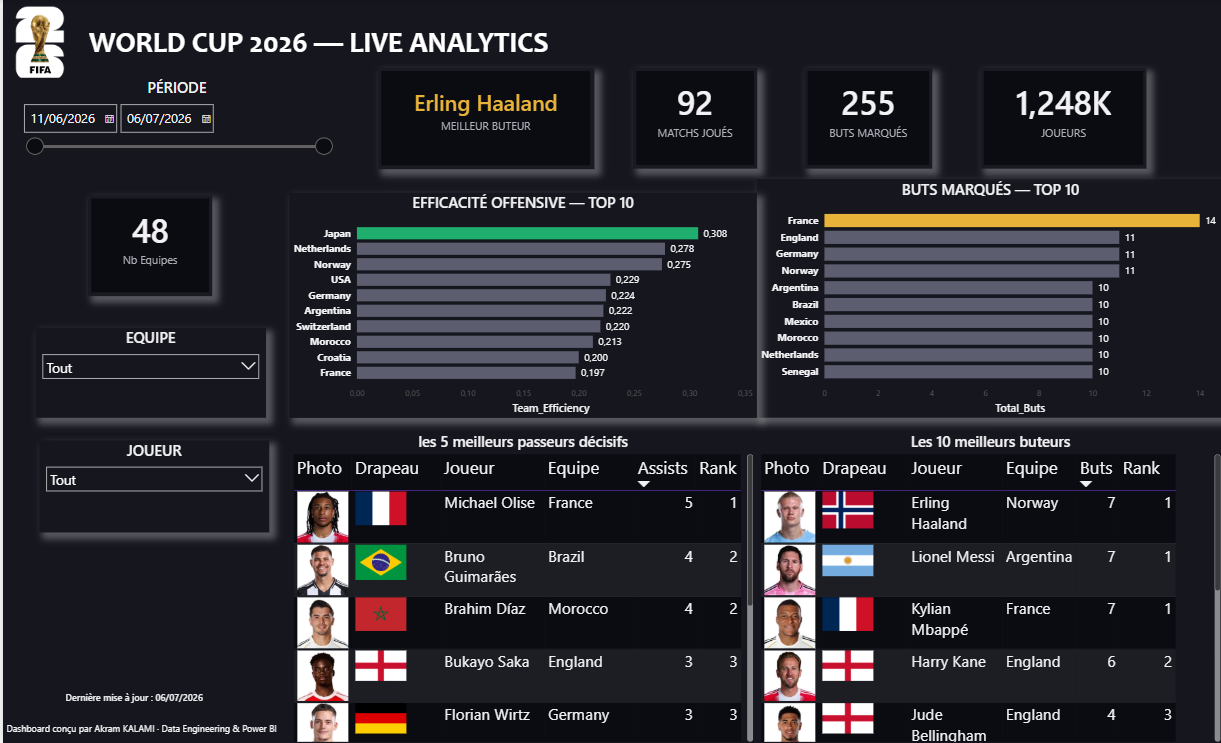

What the dashboard file says about the page in this screenshot:
{"tool":"powerbi","page":{"name":"Page 1","canvas":[1800,1100],"ordinal":0},"visuals":[{"type":"image","box":[0,0,108.6,131.4],"z":0},{"type":"textbox","box":[121.4,32.9,805.7,68.6],"z":1000},{"type":"cardVisual","title":"Total Gaols","fields":{"Data":["Fact_Performances.Total_Buts"]},"box":[1181,102.3,189.1,148.6],"z":2000},{"type":"cardVisual","title":"Total Gaols","fields":{"Data":["Fact_Performances.Nb_Matchs"]},"box":[928.2,102.3,183.3,148.6],"z":3000},{"type":"cardVisual","title":"Total Gaols","fields":{"Data":["Fact_Performances.Top_Buteur"]},"box":[571.2,102.3,301,148.6],"z":4000},{"type":"clusteredBarChart","title":"BUTS MARQUÉS — TOP 10","fields":{"Category":["Dim_Equipes.Nom_Equipe"],"Y":["Fact_Performances.Total_Buts"]},"box":[1194.5,266.3,605.9,418.7],"z":5000},{"type":"slicer","title":"EQUIPE","fields":{"Values":["Dim_Joueurs.Equipe_Nom"]},"box":[48.2,484.3,339.6,133.1],"z":6000},{"type":"slicer","title":"JOUEUR ","fields":{"Values":["Dim_Joueurs.Nom"]},"box":[48.2,727.5,339.6,137],"z":7000},{"type":"slicer","title":"PÉRIODE","fields":{"Values":["Dim_Calendrier.Date"]},"box":[19.3,131.2,474.7,135.1],"z":8000},{"type":"clusteredBarChart","title":"EFFICACITÉ OFFENSIVE — TOP 10","fields":{"Category":["Dim_Equipes.Nom_Equipe"],"Y":["Fact_Performances.Team_Efficiency"]},"box":[565.4,266.3,615,418.7],"z":9000},{"type":"cardVisual","fields":{"Data":["Dim_Calendrier.Derniere_MAJ"]},"box":[0,989.9,387.9,71.4],"z":10000},{"type":"textbox","box":[0,1061.3,681.2,38.6],"z":11000},{"type":"cardVisual","title":"Total Gaols","fields":{"Data":["Fact_Performances.Nb_Joueurs"]},"box":[1441.5,102.3,245.1,148.6],"z":12000},{"type":"cardVisual","title":"Total Gaols","fields":{"Data":["Fact_Performances.Nb_Equipes"]},"box":[125.4,289.5,183.3,148.6],"z":13000},{"type":"tableEx","title":"Les 10 meilleurs buteurs","fields":{"Values":["Dim_Joueurs.URL_Photo","Dim_Joueurs.Drapeau_URL","Dim_Joueurs.Nom","Dim_Joueurs.Equipe_Nom","Fact_Performances.Total_Buts","Fact_Performances.Rank_Buteur_Final"]},"box":[1111.5,704.3,688.9,395.6],"z":14000},{"type":"tableEx","title":"les 5 meilleurs passeurs décisifs","fields":{"Values":["Dim_Joueurs.URL_Photo","Dim_Joueurs.Drapeau_URL","Dim_Joueurs.Nom","Dim_Joueurs.Equipe_Nom","Fact_Performances.Total_Passes_Decisives","Fact_Performances.Rank_Passeur"]},"box":[422.6,704.3,688.9,395.6],"z":15000}]}

Visuals, with their boxes in screenshot pixels (x1, y1, x2, y2), scaled from the page's 1800x1100 canvas onto the 1221x743 screenshot:
image: box=[0, 0, 74, 89]
textbox: box=[82, 22, 629, 69]
"Total Gaols" cardVisual: box=[801, 69, 929, 169]
"Total Gaols" cardVisual: box=[630, 69, 754, 169]
"Total Gaols" cardVisual: box=[387, 69, 592, 169]
"BUTS MARQUÉS — TOP 10" clusteredBarChart: box=[810, 180, 1220, 463]
"EQUIPE" slicer: box=[33, 327, 263, 417]
"JOUEUR " slicer: box=[33, 491, 263, 584]
"PÉRIODE" slicer: box=[13, 89, 335, 180]
"EFFICACITÉ OFFENSIVE — TOP 10" clusteredBarChart: box=[384, 180, 801, 463]
cardVisual - Dim_Calendrier.Derniere_MAJ: box=[0, 669, 263, 717]
textbox: box=[0, 717, 462, 742]
"Total Gaols" cardVisual: box=[978, 69, 1144, 169]
"Total Gaols" cardVisual: box=[85, 196, 209, 296]
"Les 10 meilleurs buteurs" tableEx: box=[754, 476, 1220, 742]
"les 5 meilleurs passeurs décisifs" tableEx: box=[287, 476, 754, 742]
